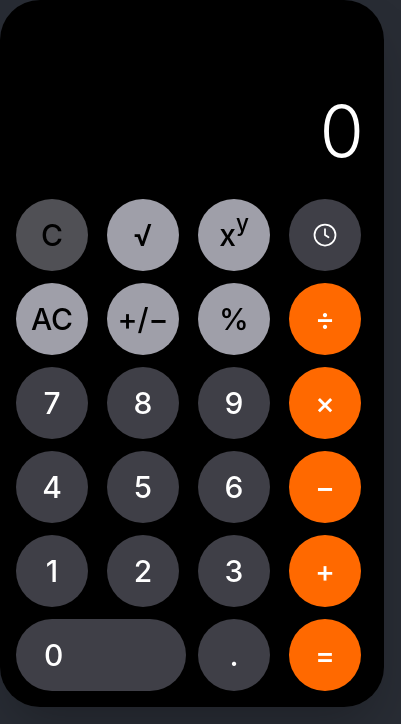
Test: Calculator › clears with the AC button
Click the button "9" at (234, 402), box [198, 366, 270, 438]
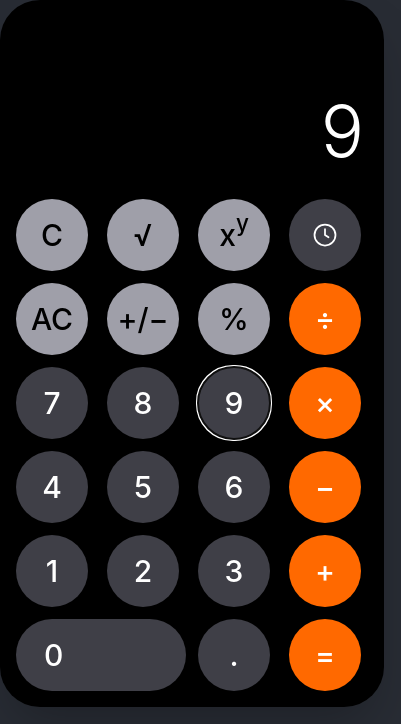
Result: the text with test id "display" reads "9" at [321, 86, 364, 166]
Click the button "AC" at (52, 318), box [16, 282, 88, 354]
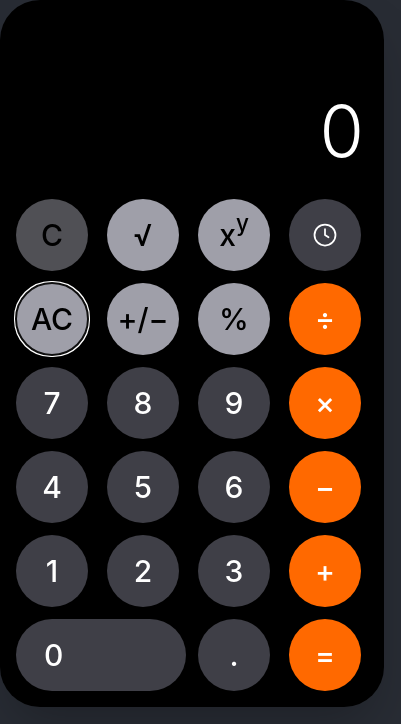
Result: the text with test id "display" reads "0" at [320, 86, 364, 166]
